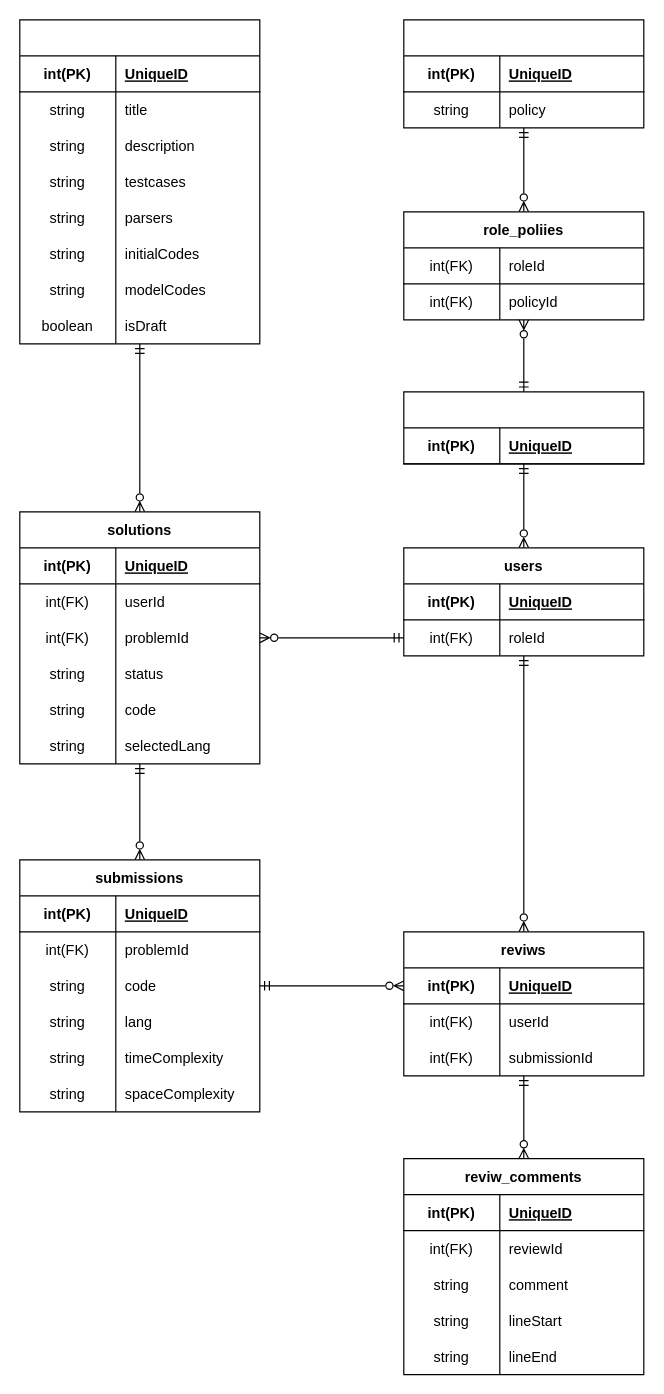
Image size: 664x1394. Some labels were removed from this diagram. Here are the shapes that lost their labels. From the top down, the box of each, then its label:
(403, 19, 644, 128): policies
(19, 19, 260, 344): problems
(403, 391, 644, 464): roles
